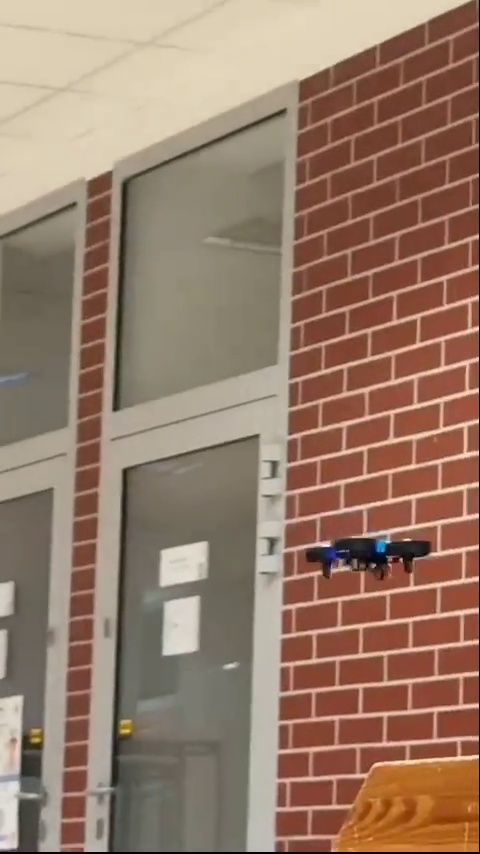drone: (306, 536, 432, 583)
